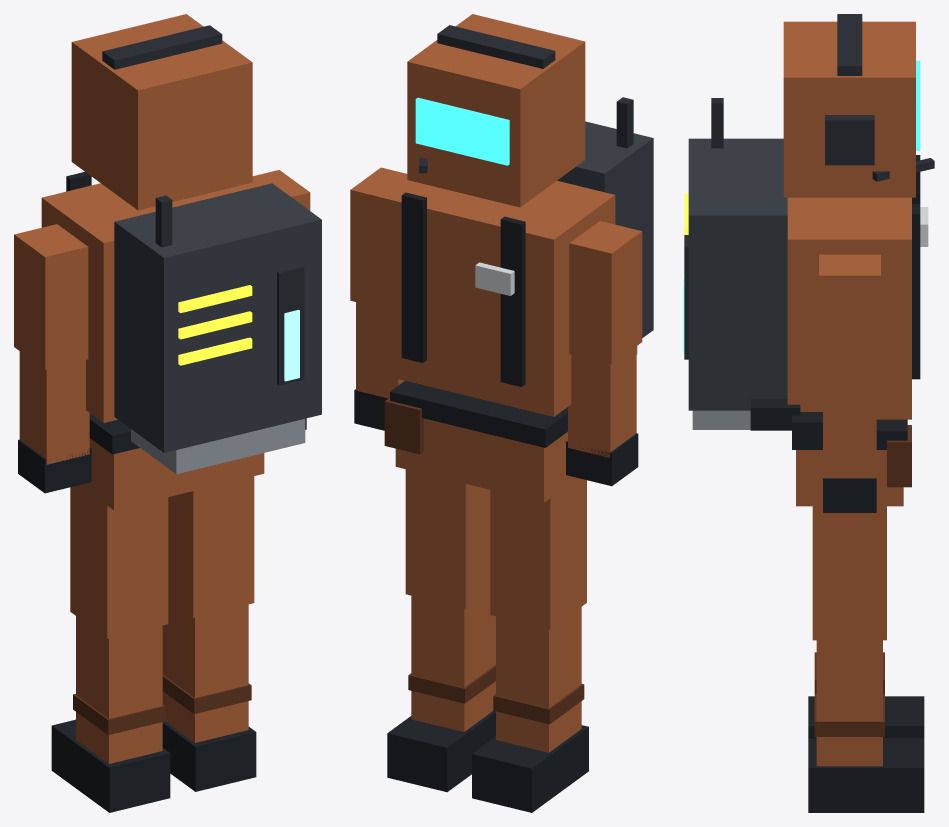
The model's file is ion_rig_rust.glb.
The picture shows the model from 3 angles, left to right: view 1: azimuth 30°, elevation 25°; view 2: azimuth 150°, elevation 25°; view 3: azimuth 270°, elevation 25°; orthographic projection.
Visible parts, largest first — view 1: Merged4, Merged, Merged5, Merged6, _MeshInstance3D_3278, _MeshInstance3D_3289, _MeshInstance3D_3273, Merged2, Merged7, _MeshInstance3D_3284; view 2: Merged4, Merged, Merged5, Merged6, Merged7, _MeshInstance3D_3278, _MeshInstance3D_3289, _MeshInstance3D_3273, Merged2, _MeshInstance3D_3284, Merged3; view 3: Merged4, Merged, Merged6, _MeshInstance3D_3289, _MeshInstance3D_3284, Merged3, Merged7, Merged5.
Part boxes in pixels (x1=…): Merged4: x1=41, y1=172, x2=321, y2=474; Merged: x1=71, y1=14, x2=252, y2=210; Merged5: x1=51, y1=616, x2=170, y2=812; Merged6: x1=162, y1=600, x2=256, y2=791; _MeshInstance3D_3278: x1=70, y1=485, x2=168, y2=638; _MeshInstance3D_3289: x1=168, y1=476, x2=254, y2=617; _MeshInstance3D_3273: x1=14, y1=224, x2=88, y2=369; Merged2: x1=18, y1=351, x2=91, y2=493; Merged7: x1=79, y1=413, x2=264, y2=510; _MeshInstance3D_3284: x1=252, y1=170, x2=310, y2=210; Merged4: x1=377, y1=97, x2=653, y2=416; Merged: x1=407, y1=14, x2=585, y2=207; Merged5: x1=472, y1=607, x2=588, y2=812; Merged6: x1=387, y1=591, x2=495, y2=792; Merged7: x1=384, y1=380, x2=577, y2=502; _MeshInstance3D_3278: x1=490, y1=478, x2=586, y2=629; _MeshInstance3D_3289: x1=405, y1=469, x2=490, y2=608; _MeshInstance3D_3273: x1=569, y1=221, x2=642, y2=364; Merged2: x1=566, y1=346, x2=638, y2=486; _MeshInstance3D_3284: x1=350, y1=167, x2=407, y2=307; Merged3: x1=354, y1=302, x2=404, y2=430; Merged4: x1=682, y1=98, x2=928, y2=444; Merged: x1=783, y1=14, x2=934, y2=197; Merged6: x1=808, y1=640, x2=924, y2=812; _MeshInstance3D_3289: x1=812, y1=506, x2=886, y2=640; _MeshInstance3D_3284: x1=819, y1=254, x2=880, y2=387; Merged3: x1=823, y1=388, x2=876, y2=512; Merged7: x1=792, y1=419, x2=911, y2=506; Merged5: x1=808, y1=652, x2=924, y2=738.
Bounding box in the file's own units: 0.74 × 1.97 × 0.61.
